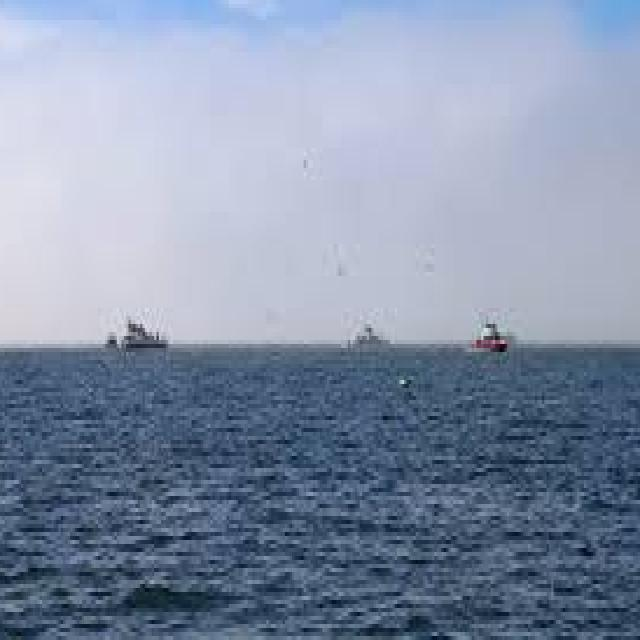fishing boat: (94, 288, 178, 376), (476, 301, 528, 367)
